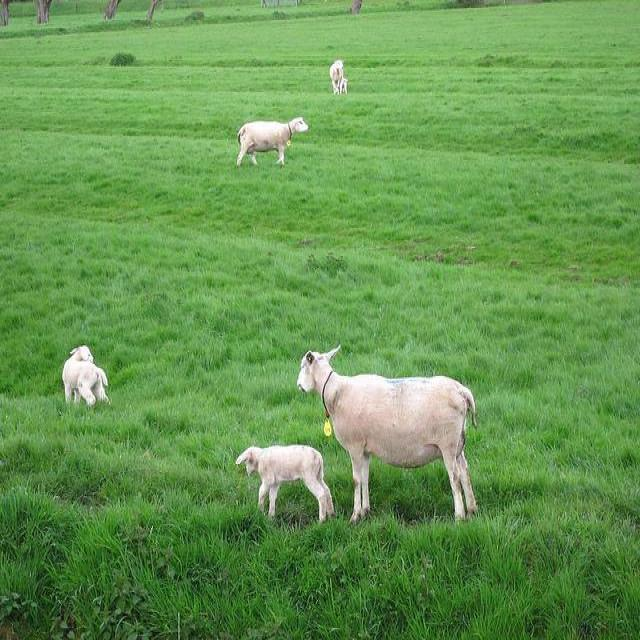Sheep: (296, 345, 481, 523), (236, 444, 337, 523), (237, 116, 310, 167), (62, 346, 111, 410)
